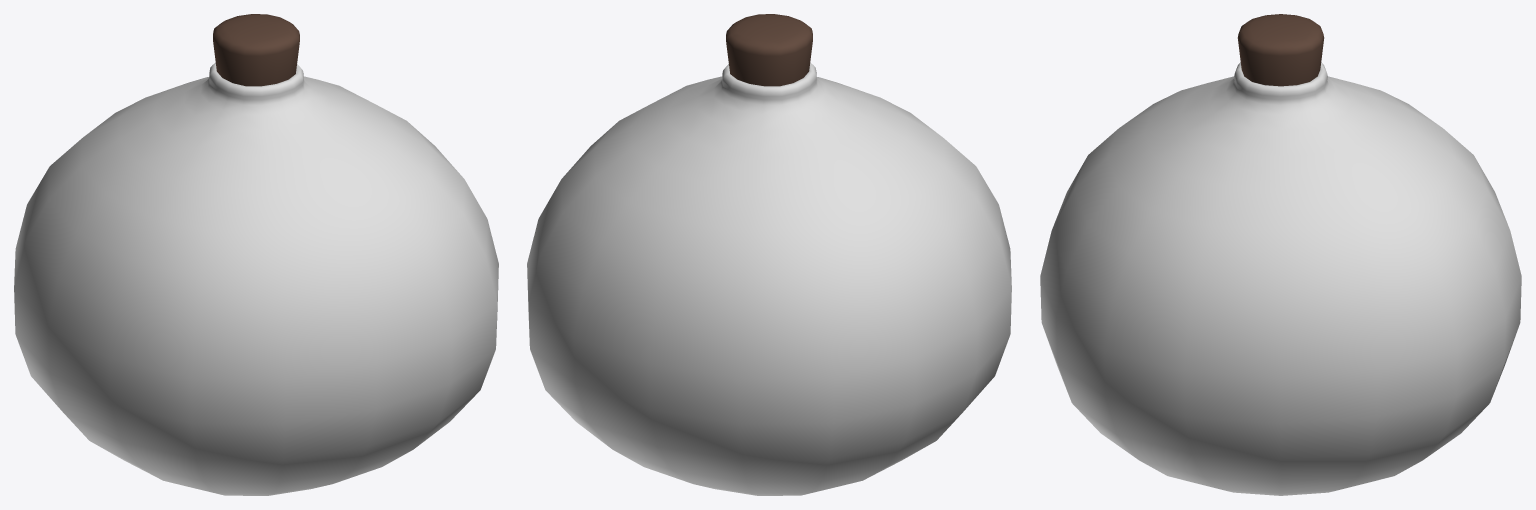
Rendered from quaternius-rpg-items-pack-potion9-filled.glb.
The picture shows the model from 3 angles, left to right: view 1: azimuth 30°, elevation 25°; view 2: azimuth 150°, elevation 25°; view 3: azimuth 270°, elevation 25°; orthographic projection.
Visible parts, largest first — view 1: Potion9_Filled; view 2: Potion9_Filled; view 3: Potion9_Filled.
Boxes of the visible parts, x1,y1,x2,y2 form: Potion9_Filled: (14, 14, 498, 495); Potion9_Filled: (527, 14, 1011, 495); Potion9_Filled: (1040, 14, 1521, 495).
Size of the model in its own units: 1.26 by 1.29 by 1.26.
